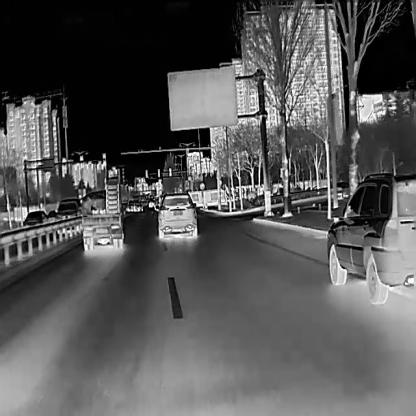car: (326, 172, 415, 304), (154, 190, 197, 241), (54, 198, 80, 233), (21, 209, 45, 234), (46, 208, 56, 223), (124, 202, 133, 212), (134, 202, 142, 212), (148, 201, 154, 207)
truck: (79, 180, 123, 251)
